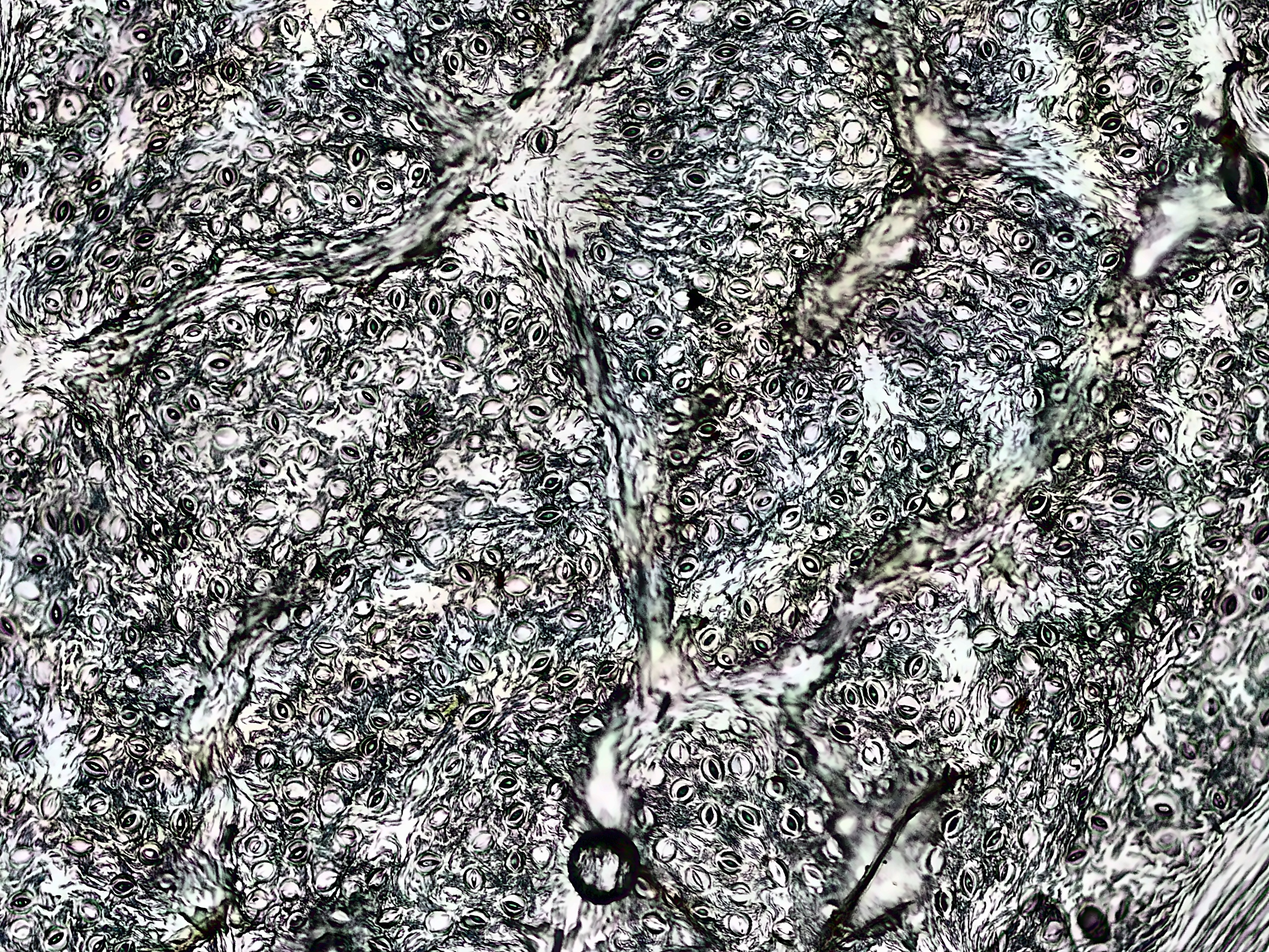stomata: (527, 127, 556, 157), (124, 734, 156, 761), (74, 662, 100, 695), (294, 312, 323, 341), (406, 106, 435, 135), (283, 839, 313, 867), (133, 266, 161, 295), (318, 790, 347, 818), (345, 142, 371, 173), (491, 368, 522, 394), (80, 754, 112, 779), (278, 193, 305, 222), (727, 752, 754, 781), (38, 787, 61, 821), (709, 41, 743, 64), (305, 151, 336, 176), (309, 341, 334, 372), (171, 605, 196, 636), (686, 864, 711, 895), (972, 625, 1000, 652), (11, 735, 40, 761), (43, 923, 69, 952), (735, 593, 761, 622), (534, 723, 564, 748), (110, 875, 141, 899), (462, 705, 493, 729), (682, 167, 713, 191), (1227, 271, 1251, 302), (301, 378, 322, 413), (6, 891, 41, 912), (405, 162, 433, 188), (700, 518, 725, 547), (940, 706, 965, 735), (208, 573, 232, 603), (519, 398, 549, 422), (625, 255, 655, 279), (61, 86, 82, 120), (292, 123, 323, 146), (525, 320, 548, 351), (760, 176, 792, 198), (437, 358, 469, 380), (779, 12, 816, 31), (80, 16, 106, 43), (90, 201, 117, 227), (282, 777, 308, 804), (231, 373, 256, 401), (242, 523, 270, 548), (500, 893, 528, 918), (404, 769, 429, 797), (1005, 292, 1033, 317), (135, 549, 158, 579), (1197, 495, 1227, 518), (170, 809, 192, 840), (392, 368, 423, 390), (86, 457, 112, 483), (248, 136, 275, 161), (331, 563, 356, 590), (784, 238, 811, 263), (737, 804, 762, 831), (896, 694, 923, 719), (214, 165, 242, 189), (204, 354, 236, 375), (807, 202, 835, 226), (467, 331, 491, 359), (773, 918, 801, 942), (1017, 886, 1041, 914), (245, 888, 274, 911), (291, 742, 314, 771), (461, 493, 490, 516), (1113, 430, 1142, 453), (49, 447, 69, 480), (182, 152, 213, 173), (671, 289, 702, 310), (437, 256, 463, 281), (118, 807, 144, 832), (270, 698, 296, 723), (452, 560, 477, 586), (448, 295, 474, 320), (1019, 647, 1044, 673), (313, 868, 340, 892), (779, 809, 803, 836), (937, 328, 964, 352), (990, 686, 1017, 710), (51, 198, 74, 226), (837, 399, 865, 422), (129, 226, 158, 248), (312, 634, 341, 656), (528, 692, 557, 714), (857, 140, 879, 169), (864, 679, 886, 708), (1061, 509, 1090, 531), (1164, 467, 1186, 496), (64, 833, 94, 854), (925, 847, 946, 877), (1033, 337, 1063, 358), (338, 440, 363, 465), (296, 507, 321, 532), (138, 840, 163, 865), (802, 862, 827, 887), (983, 731, 1008, 756), (371, 174, 397, 198), (256, 179, 280, 205), (21, 430, 47, 454), (214, 425, 238, 451), (364, 867, 390, 891), (416, 851, 442, 875), (718, 852, 744, 876), (671, 778, 695, 804), (940, 812, 964, 838), (983, 828, 1007, 854), (980, 785, 1006, 809), (129, 22, 156, 45), (43, 248, 70, 271), (68, 285, 91, 312), (495, 772, 522, 795), (817, 89, 844, 112), (762, 267, 789, 290), (1149, 506, 1176, 529), (500, 306, 522, 334), (641, 317, 669, 339), (253, 307, 278, 331), (422, 290, 442, 320), (254, 454, 279, 478), (359, 522, 384, 546), (390, 549, 415, 573), (430, 656, 450, 686), (526, 649, 551, 673), (471, 596, 496, 620), (544, 361, 569, 385), (861, 742, 886, 766), (1075, 38, 1100, 62), (926, 484, 951, 508), (1243, 384, 1268, 408), (253, 499, 279, 522), (78, 900, 104, 923), (553, 667, 579, 690), (354, 69, 380, 92), (671, 80, 697, 103), (740, 208, 766, 231), (566, 481, 592, 504), (98, 69, 120, 96), (274, 356, 301, 378), (425, 910, 452, 932), (727, 278, 754, 300), (701, 758, 723, 785), (1013, 58, 1035, 85), (1219, 0, 1241, 27), (144, 132, 172, 153), (165, 257, 193, 278), (109, 275, 130, 303), (145, 188, 173, 209), (960, 869, 981, 897), (941, 31, 962, 59), (985, 251, 1013, 272), (110, 515, 130, 544), (270, 537, 290, 566), (78, 721, 102, 745), (463, 867, 487, 891), (789, 53, 813, 77), (476, 287, 500, 311), (589, 240, 613, 264), (1032, 258, 1056, 282), (674, 556, 699, 579), (751, 632, 776, 655), (729, 913, 752, 938), (635, 804, 658, 829), (348, 356, 370, 382), (173, 440, 199, 462), (9, 845, 35, 867), (369, 621, 391, 647), (608, 278, 634, 300), (654, 836, 676, 862), (858, 637, 884, 659), (907, 652, 929, 678), (832, 719, 858, 741), (894, 727, 920, 749), (1012, 193, 1038, 215), (949, 459, 975, 481), (1159, 336, 1185, 358), (498, 749, 528, 768), (641, 914, 671, 933), (344, 187, 365, 214), (71, 513, 92, 540), (595, 660, 622, 681), (932, 889, 953, 916), (918, 389, 945, 410), (1152, 418, 1173, 445), (1018, 821, 1038, 849), (328, 474, 351, 498), (370, 477, 393, 501), (425, 804, 448, 828), (632, 874, 656, 897), (845, 540, 868, 564), (1067, 99, 1090, 123), (1173, 362, 1197, 385), (867, 446, 886, 475), (1058, 308, 1087, 327), (420, 711, 445, 733), (466, 650, 488, 675), (563, 606, 588, 628), (467, 523, 492, 545), (999, 6, 1021, 31), (1151, 156, 1173, 181), (22, 95, 43, 121), (223, 312, 249, 333), (266, 409, 287, 435), (85, 794, 111, 815), (5, 789, 26, 815), (536, 504, 562, 525), (582, 552, 603, 578), (71, 412, 91, 439), (15, 581, 42, 601), (273, 638, 303, 656), (688, 2, 715, 22), (900, 359, 927, 379), (1086, 450, 1106, 477), (336, 308, 355, 336), (463, 910, 491, 929), (1115, 144, 1143, 163), (99, 247, 122, 270), (239, 210, 262, 233), (506, 281, 529, 304), (729, 513, 752, 536), (340, 106, 364, 128), (85, 613, 109, 635), (136, 769, 160, 791), (244, 834, 268, 856), (504, 803, 528, 825), (360, 735, 382, 759), (257, 748, 279, 772), (514, 620, 536, 644), (518, 36, 542, 58), (752, 488, 776, 510), (669, 740, 691, 764), (916, 457, 938, 481), (1212, 349, 1234, 373), (1051, 448, 1073, 472), (770, 857, 787, 888), (212, 11, 233, 36), (424, 537, 449, 558), (250, 861, 275, 882), (730, 78, 755, 99), (662, 883, 683, 908), (1013, 228, 1034, 253), (1085, 723, 1106, 748), (42, 507, 60, 536), (123, 625, 143, 651), (944, 759, 964, 785), (1111, 406, 1137, 426), (83, 569, 102, 596), (338, 827, 365, 846), (505, 576, 532, 595), (642, 55, 669, 74), (774, 85, 801, 104), (517, 450, 544, 469), (700, 803, 719, 830), (309, 181, 332, 203), (357, 386, 379, 409), (286, 808, 309, 830), (462, 788, 484, 811), (428, 10, 451, 32), (742, 120, 764, 143), (842, 118, 865, 140), (692, 270, 715, 292), (779, 507, 801, 530), (714, 646, 737, 668), (1061, 272, 1084, 294), (1098, 248, 1120, 271), (279, 15, 300, 39), (262, 97, 286, 118), (150, 364, 174, 385), (178, 492, 199, 516), (9, 918, 33, 939), (367, 789, 388, 813), (709, 99, 733, 120), (814, 141, 838, 162), (707, 213, 731, 234), (737, 236, 761, 257), (414, 397, 438, 418), (698, 627, 719, 651), (1032, 8, 1053, 32), (127, 413, 147, 438), (547, 775, 567, 800), (691, 123, 716, 143), (480, 400, 505, 420), (917, 588, 937, 613), (49, 598, 65, 629), (508, 5, 534, 24), (1155, 17, 1181, 36), (695, 421, 722, 439), (949, 498, 967, 525), (308, 71, 330, 93), (1168, 115, 1190, 137), (1026, 493, 1048, 515), (184, 193, 207, 214), (136, 449, 157, 472), (418, 466, 441, 487), (312, 664, 335, 685), (409, 42, 430, 65), (833, 372, 856, 393), (735, 443, 758, 464), (1063, 5, 1084, 28), (1227, 412, 1250, 433), (279, 880, 303, 900), (376, 905, 400, 925), (730, 8, 754, 28), (1038, 622, 1058, 646), (1026, 721, 1050, 741), (1111, 489, 1135, 509), (372, 425, 389, 453), (300, 440, 319, 465), (300, 553, 319, 578), (555, 558, 574, 583), (793, 380, 812, 405), (1237, 227, 1262, 246), (1220, 594, 1239, 619), (222, 58, 240, 84), (367, 711, 393, 729), (829, 169, 855, 187), (385, 146, 406, 168), (162, 404, 184, 425), (401, 929, 423, 950), (664, 343, 685, 365), (868, 507, 890, 528), (1015, 778, 1036, 800), (1199, 390, 1221, 411), (43, 290, 63, 313), (364, 315, 384, 338), (400, 641, 420, 664), (843, 197, 866, 217), (728, 359, 748, 382), (826, 334, 846, 357), (349, 669, 366, 696), (889, 436, 906, 463), (327, 14, 346, 38), (182, 324, 206, 343), (199, 518, 218, 542), (312, 704, 331, 728), (573, 447, 597, 466), (801, 419, 820, 443), (1098, 114, 1122, 133), (953, 302, 977, 321), (85, 934, 110, 952), (580, 715, 605, 733), (691, 904, 717, 921), (1023, 387, 1040, 413), (13, 160, 34, 181), (799, 554, 820, 575), (1141, 119, 1162, 140), (371, 932, 393, 952), (296, 603, 316, 625), (573, 695, 595, 715), (660, 414, 682, 434), (677, 491, 697, 513), (764, 591, 784, 613), (1148, 75, 1168, 97), (941, 426, 961, 448), (1067, 709, 1087, 731), (168, 45, 187, 68), (186, 390, 205, 413), (469, 832, 492, 851), (906, 491, 925, 514), (890, 619, 909, 642), (41, 42, 59, 66), (444, 754, 462, 778), (329, 731, 353, 749), (821, 22, 846, 39), (874, 299, 899, 316), (209, 216, 229, 237), (3, 447, 23, 468), (405, 517, 426, 537), (262, 802, 282, 823), (401, 740, 422, 760), (464, 432, 485, 452), (540, 471, 561, 491), (634, 362, 654, 383), (671, 371, 692, 391), (988, 346, 1009, 366), (505, 850, 524, 872), (415, 621, 437, 640), (605, 351, 624, 373), (1127, 577, 1146, 599), (26, 20, 49, 38), (253, 572, 276, 590), (756, 333, 774, 356), (727, 881, 750, 899), (1136, 363, 1154, 386), (161, 0, 185, 17), (264, 60, 288, 77), (401, 687, 421, 707), (353, 594, 373, 614), (200, 73, 221, 92), (340, 760, 359, 781), (1121, 0, 1142, 19), (1044, 674, 1065, 693), (1085, 563, 1104, 584), (874, 72, 896, 90), (1091, 813, 1113, 831), (1181, 270, 1203, 288), (61, 150, 84, 167), (390, 288, 407, 311), (1252, 522, 1269, 545), (783, 754, 803, 773), (832, 53, 852, 72), (927, 278, 946, 298), (1012, 754, 1032, 773), (1063, 758, 1083, 777), (125, 672, 143, 693), (472, 35, 490, 56), (721, 154, 742, 172), (617, 311, 635, 332), (765, 376, 783, 397), (937, 234, 958, 252), (1066, 847, 1087, 865), (192, 123, 217, 138), (595, 310, 612, 332), (726, 396, 743, 418), (953, 213, 970, 235), (1042, 788, 1059, 810), (155, 90, 171, 113), (981, 38, 997, 61), (940, 187, 963, 203), (886, 329, 909, 345), (1136, 455, 1159, 471), (1160, 552, 1183, 568), (646, 144, 665, 163), (483, 548, 502, 567), (766, 778, 785, 797), (924, 6, 943, 25), (968, 273, 987, 292), (120, 708, 138, 728), (713, 319, 737, 334), (848, 475, 868, 493), (1056, 229, 1076, 247), (1085, 682, 1103, 702), (1193, 430, 1217, 445), (1197, 584, 1215, 604), (632, 98, 653, 115), (700, 356, 717, 377), (722, 475, 739, 496), (812, 524, 833, 541), (1153, 601, 1170, 622), (1205, 536, 1227, 552), (156, 335, 174, 354), (288, 911, 306, 930), (697, 237, 716, 255), (424, 429, 443, 447), (1052, 538, 1071, 556), (1113, 625, 1131, 644), (1084, 621, 1103, 639), (228, 485, 245, 505), (622, 123, 642, 140), (950, 68, 970, 85), (1094, 81, 1114, 98), (1159, 290, 1179, 307), (83, 178, 104, 194), (447, 52, 463, 73), (843, 686, 859, 707), (176, 530, 191, 552), (0, 615, 15, 637), (30, 550, 49, 567), (827, 493, 846, 510), (680, 522, 697, 541), (84, 125, 107, 139), (1255, 444, 1269, 467), (176, 70, 192, 90), (130, 171, 150, 187), (1164, 583, 1188, 596), (138, 66, 156, 83), (1252, 345, 1269, 363), (1127, 533, 1146, 549), (1252, 584, 1267, 604), (1139, 619, 1154, 639), (1077, 785, 1090, 808), (155, 710, 172, 727), (841, 446, 857, 464), (1210, 256, 1228, 272), (569, 525, 584, 544), (1189, 622, 1204, 641), (1224, 465, 1239, 484), (1153, 802, 1173, 816), (150, 518, 163, 539), (918, 55, 931, 76), (792, 133, 807, 151), (114, 940, 136, 952), (666, 450, 686, 463), (962, 239, 978, 255), (868, 98, 888, 110), (1000, 861, 1011, 882), (115, 0, 134, 11)
